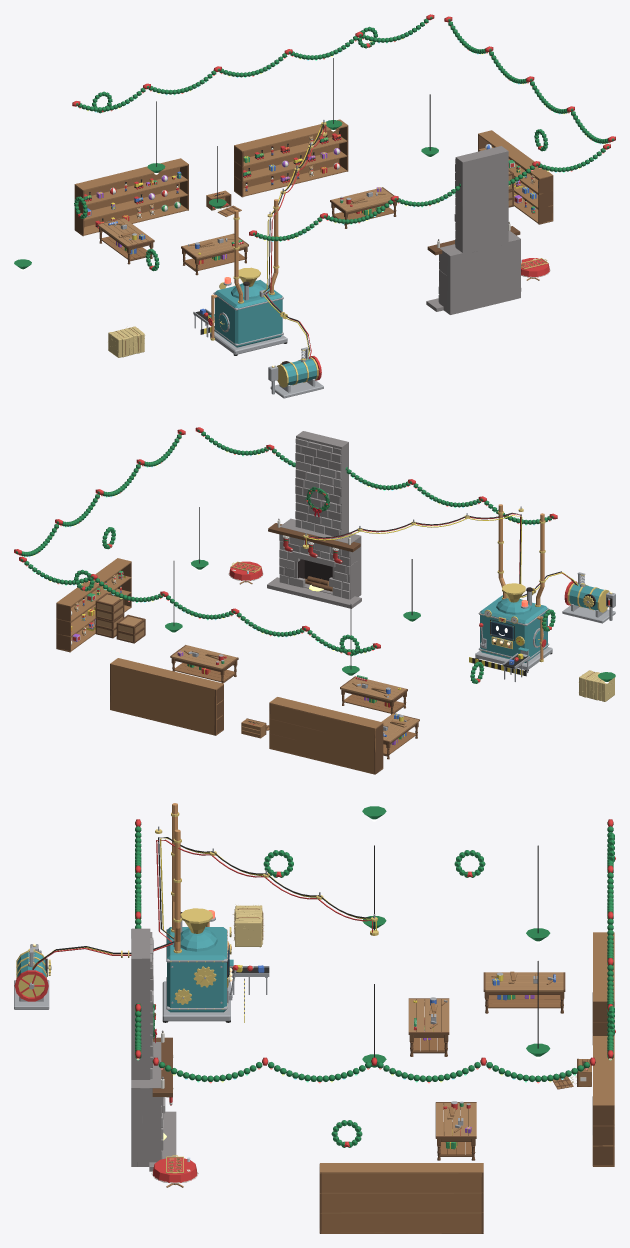
File: Props_Taller.glb
The picture shows the model from 3 angles, top to bottom: view 1: azimuth 30°, elevation 25°; view 2: azimuth 150°, elevation 25°; view 3: azimuth 270°, elevation 25°; orthographic projection. The views are drawn at different scales.
Parts seen in each view (by area): view 1: Chimenea, Repisa_Sur_A, Repisa_Sur_B, Maquina, Guirnaldas, Repisa_Oeste, Siete_Corazon, Mesa_1, Mesa_3, Mesa_2, Coronas, Lamparas (+3 smaller); view 2: Chimenea, Repisa_Sur_B, Repisa_Sur_A, Maquina, Guirnaldas, Repisa_Oeste, Cajas, Siete_Corazon, Mesa_2, Mesa_1, Detalles_Taller, Coronas (+4 smaller); view 3: Repisa_Oeste, Chimenea, Maquina, Guirnaldas, Mesa_3, Repisa_Sur_A, Mesa_1, Mesa_2, Siete_Corazon, Repisa_Sur_B, Siete_Cables, Coronas (+4 smaller).
Part boxes in pixels (<box>): Chimenea: <box>426,146,521,314</box>; Repisa_Sur_A: <box>234,119,348,197</box>; Repisa_Sur_B: <box>74,158,188,236</box>; Maquina: <box>208,199,287,355</box>; Guirnaldas: <box>72,14,615,241</box>; Repisa_Oeste: <box>478,130,553,224</box>; Siete_Corazon: <box>263,293,323,398</box>; Mesa_1: <box>181,233,248,275</box>; Mesa_3: <box>97,218,154,264</box>; Mesa_2: <box>330,187,396,228</box>; Coronas: <box>74,26,548,271</box>; Lamparas: <box>14,58,438,270</box>; Chimenea: <box>267,431,361,608</box>; Repisa_Sur_B: <box>269,697,383,774</box>; Repisa_Sur_A: <box>110,658,223,735</box>; Maquina: <box>475,504,552,671</box>; Guirnaldas: <box>14,427,557,653</box>; Repisa_Oeste: <box>56,558,131,652</box>; Cajas: <box>95,593,145,643</box>; Siete_Corazon: <box>520,571,615,623</box>; Mesa_2: <box>170,645,238,683</box>; Mesa_1: <box>340,676,407,714</box>; Detalles_Taller: <box>177,609,546,736</box>; Coronas: <box>74,527,555,683</box>; Repisa_Oeste: <box>319,1163,483,1233</box>; Chimenea: <box>131,928,176,1171</box>; Maquina: <box>162,803,233,1022</box>; Guirnaldas: <box>135,819,613,1081</box>; Mesa_3: <box>483,971,565,1013</box>; Repisa_Sur_A: <box>592,1036,614,1166</box>; Mesa_1: <box>408,997,449,1056</box>; Mesa_2: <box>435,1101,476,1160</box>; Siete_Corazon: <box>14,941,173,1009</box>; Repisa_Sur_B: <box>592,932,614,1044</box>; Siete_Cables: <box>155,826,378,941</box>; Coronas: <box>263,833,615,1147</box>.
Size of the model in its own units: 29.31 by 8.13 by 22.05.
